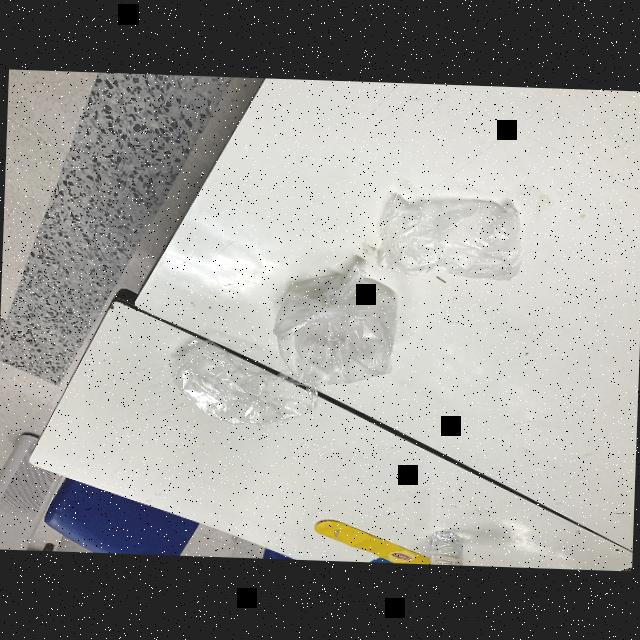plastic_bag: (270, 248, 402, 390), (162, 334, 322, 430)
scrap_plastic: (368, 188, 534, 282)
